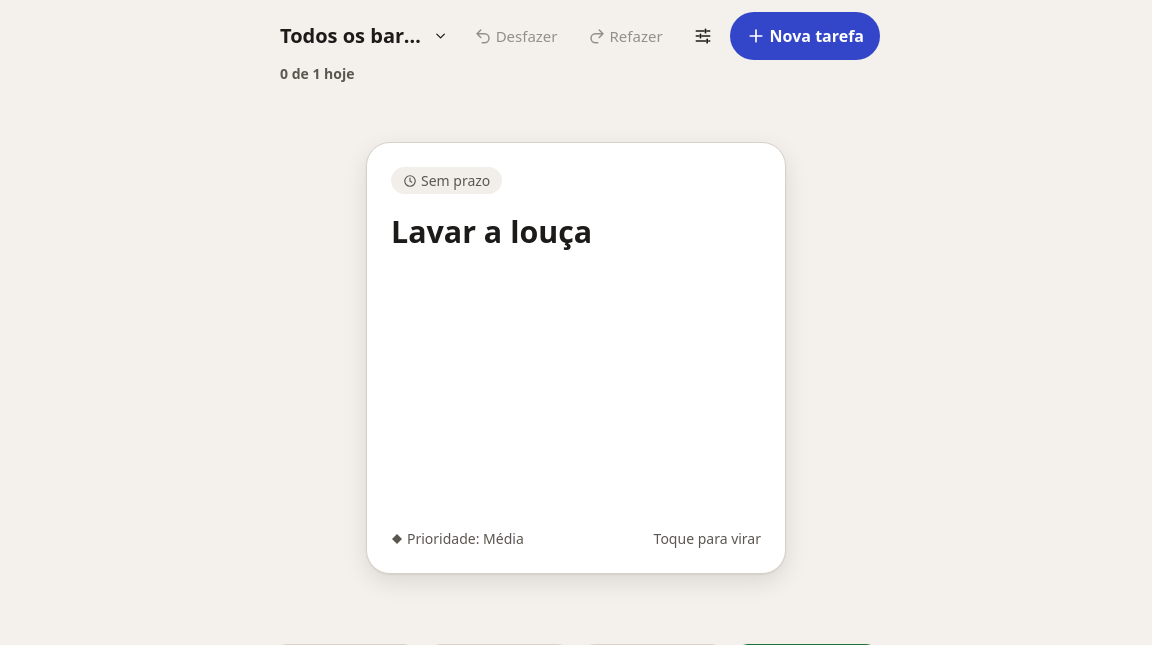
settings: language › explains when ?lang= in the address wins
The image size is (1152, 645).
Click the button named "Configurações" at (703, 36), box [680,12,726,60]
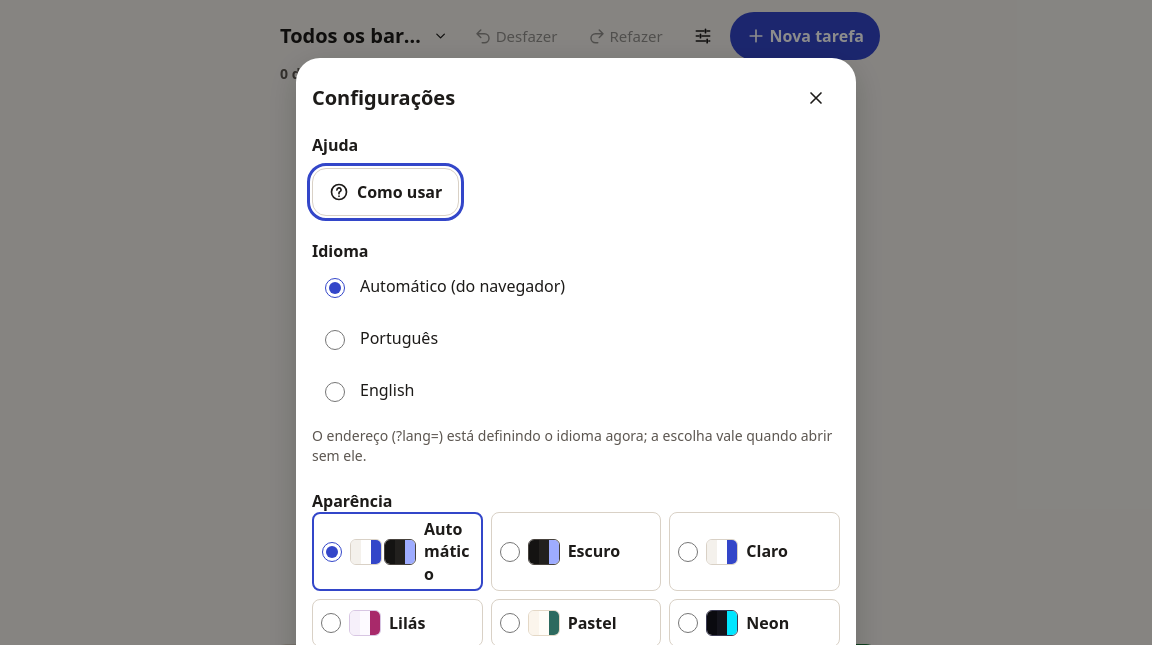
Check: the dialog "Configurações" shows "O endereço (?lang=) está definindo o idioma agora", box [312,426,832,465]
